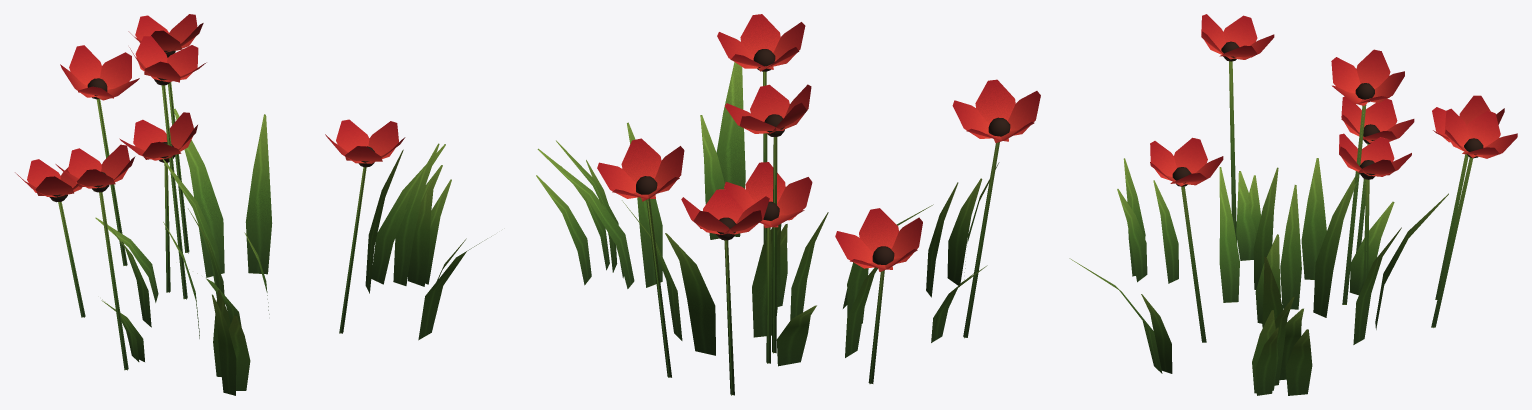
Rendered from flowers_poppy.glb.
The picture shows the model from 3 angles, left to right: view 1: azimuth 30°, elevation 25°; view 2: azimuth 150°, elevation 25°; view 3: azimuth 270°, elevation 25°; orthographic projection. The views are drawn at different scales.
Parts seen in each view (by area): view 1: model; view 2: model; view 3: model.
Part boxes in pixels (left/top/right/bottom): model: left=15, top=14, right=491, bottom=395; model: left=536, top=14, right=1040, bottom=395; model: left=1069, top=14, right=1517, bottom=395.
Size of the model in its own units: 0.9953 by 0.5657 by 0.971.
Materials: 4 (3 with a texture image).
